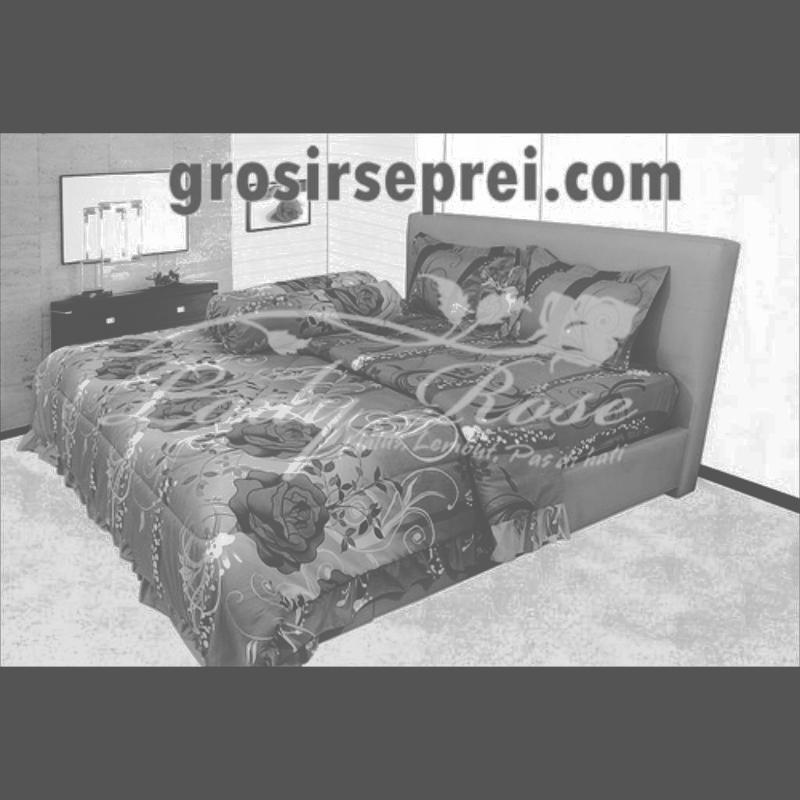pillow: (515, 256, 667, 374), (405, 230, 525, 344)
